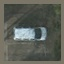car: (12, 25, 47, 43)
